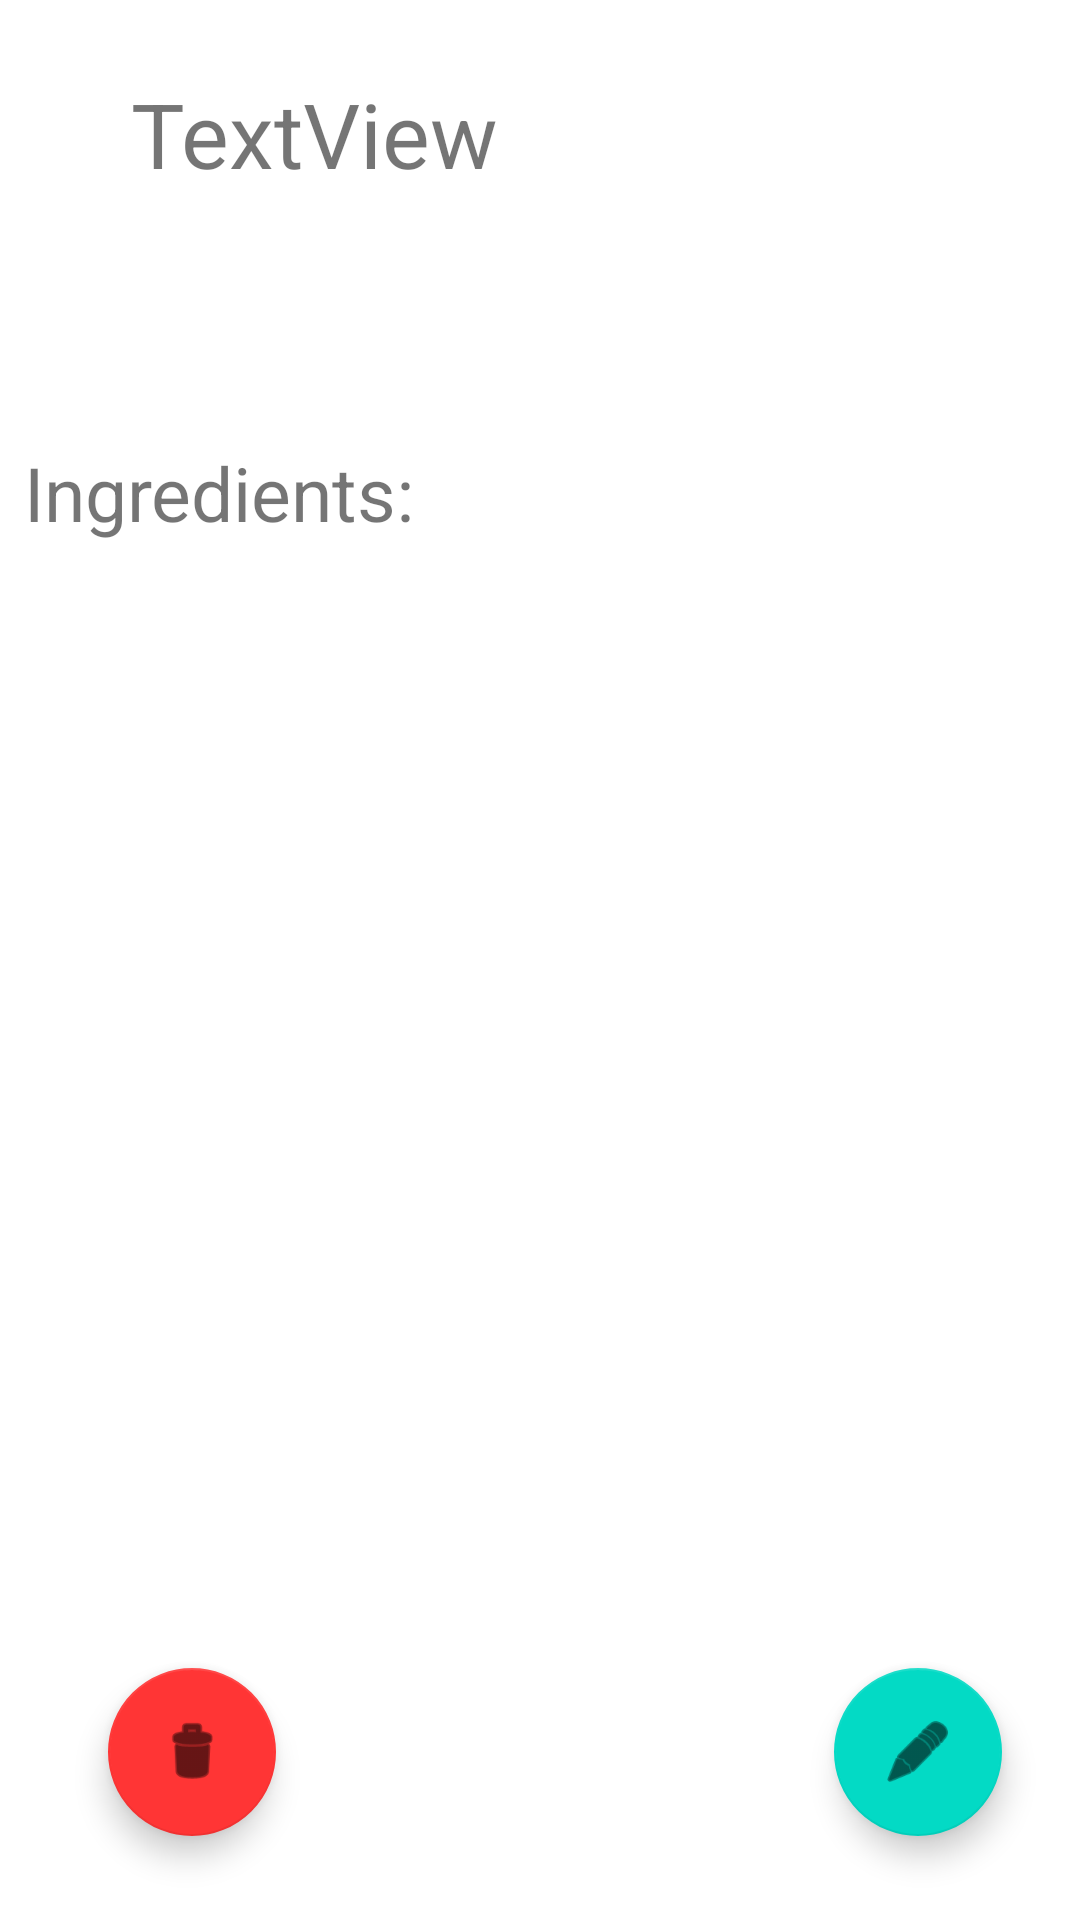

Point at icon controls on the screen. Image size 1080x1920, points as (x=x, y=y).
delete: (x=192, y=1752)
edit: (x=918, y=1752)
